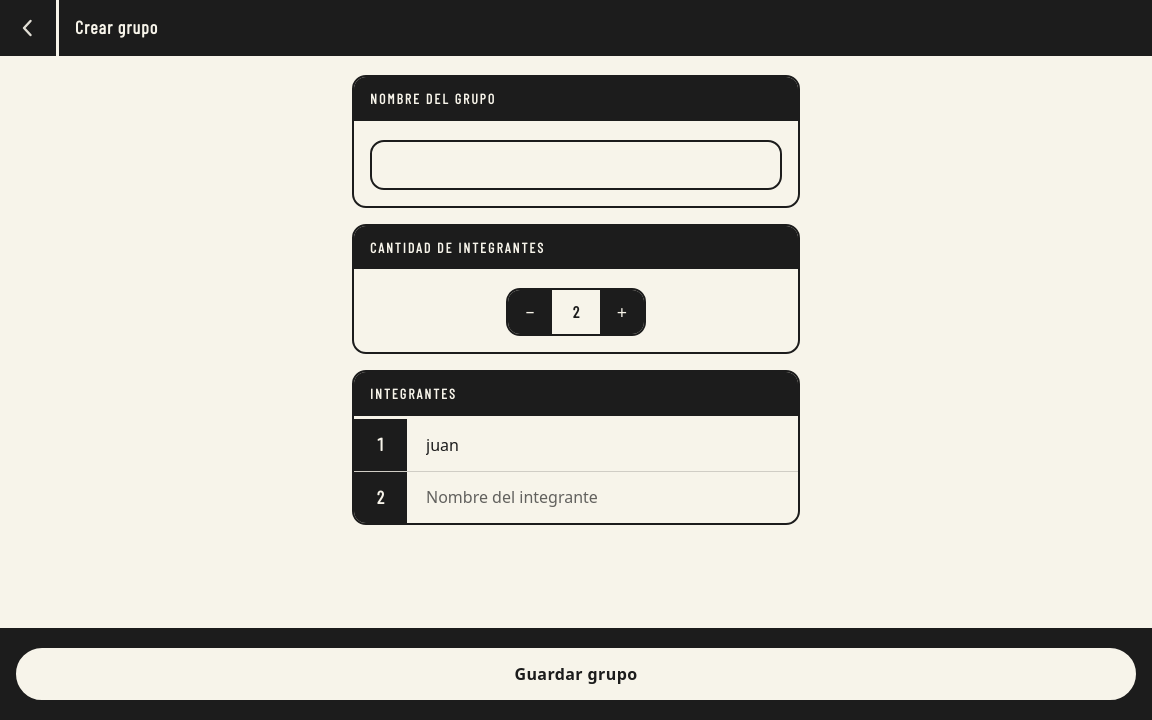
CreateGroupScreen › pide confirmación antes de cancelar con datos escritos
Type "Borrador" into the field named "Nombre del grupo" at point(576, 165), box [370,140,782,190]
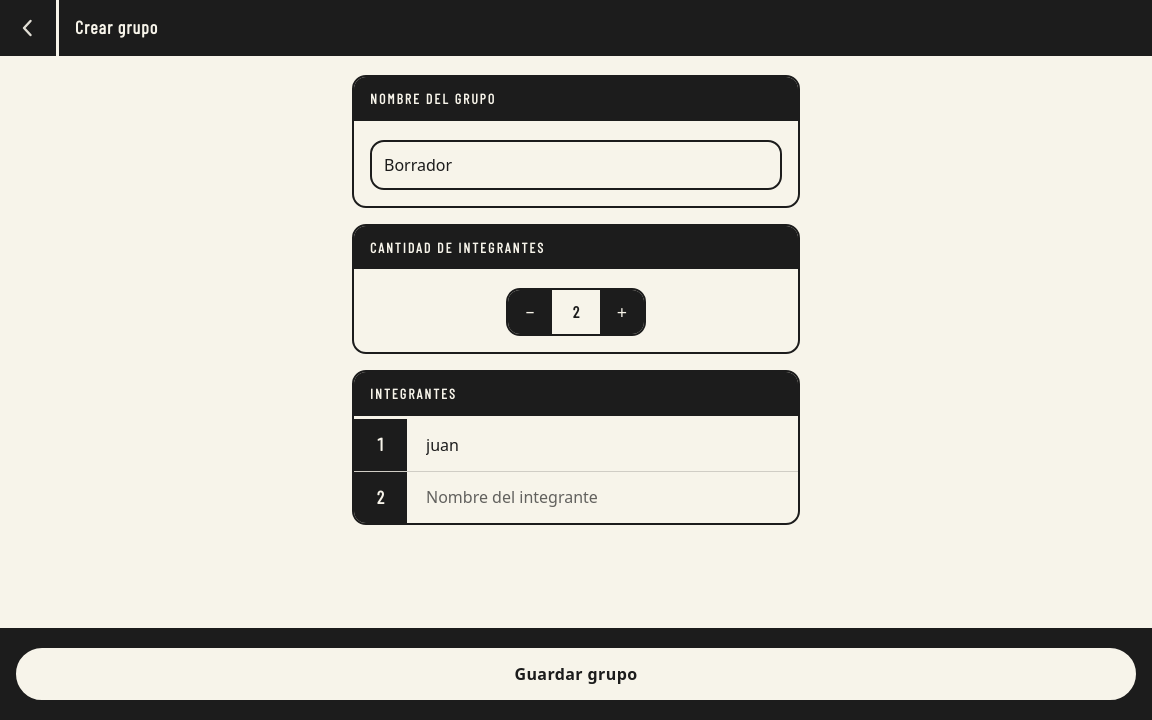
Click the button named "Volver" at point(28, 28), box [0,0,56,56]
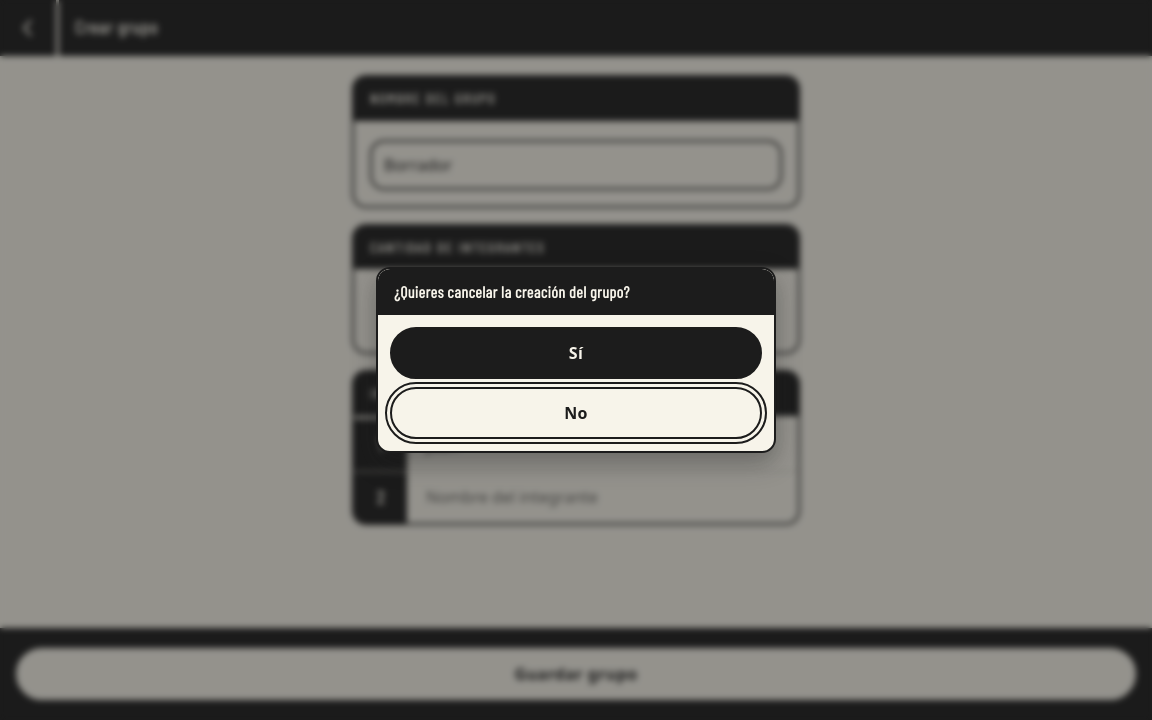
Expected: the dialog shows "¿Quieres cancelar la creación del grupo?", [394,282,630,301]
